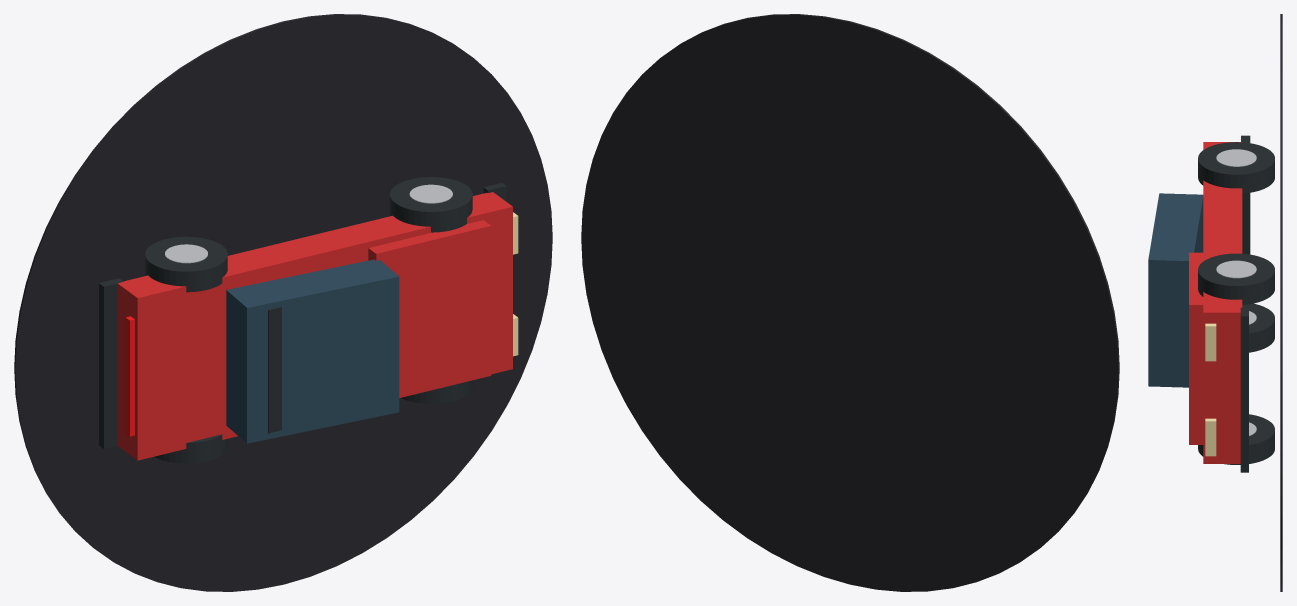
File: ferrari-roma.glb
3 renders of one model, left to right at view 1: azimuth 30°, elevation 25°; view 2: azimuth 150°, elevation 25°; view 3: azimuth 270°, elevation 25°, orthographic. The views are drawn at different scales.
Parts seen in each view (by area): view 1: world; view 2: world; view 3: world.
Part boxes in pixels (left/top/right/bottom): world: left=14, top=14, right=552, bottom=591; world: left=581, top=14, right=1119, bottom=591; world: left=1148, top=14, right=1282, bottom=591.
Size of the model in its own units: 6.3 by 6.3 by 1.46.
